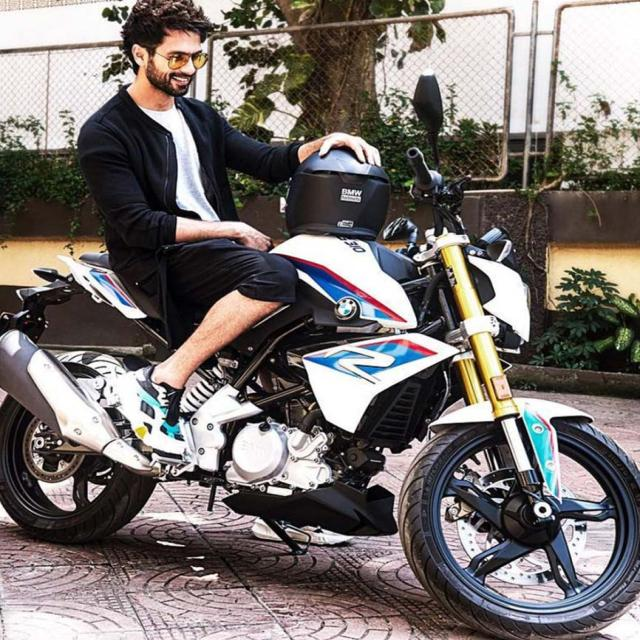bike: (0, 74, 640, 621)
